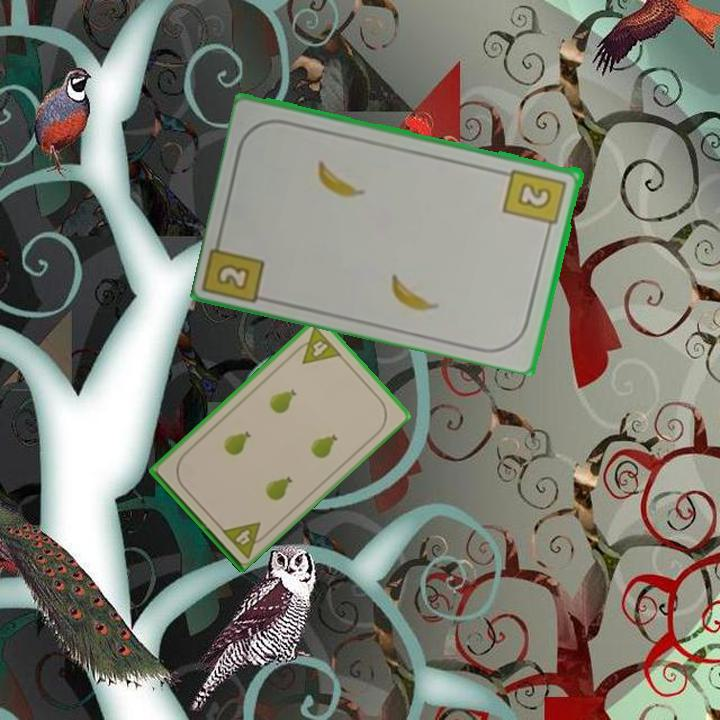2b: (501, 165, 570, 236), (213, 260, 254, 293)
4p: (289, 323, 344, 367), (217, 518, 271, 561)
